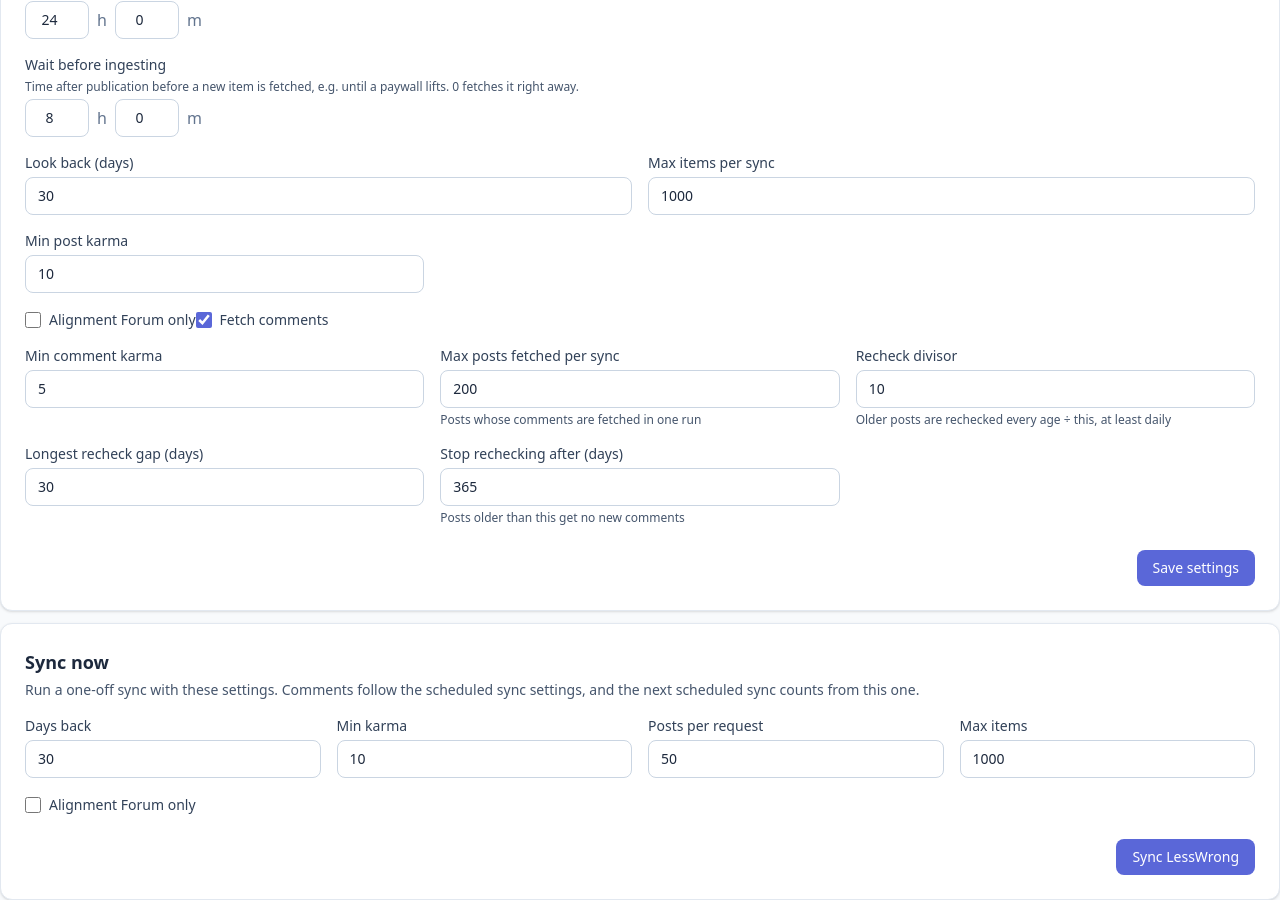
ForumsPanel › shows the server error detail when the manual sync fails
(page scrolled)
Click the button "Sync LessWrong". click: (1186,857)
box: [1116,839,1255,875]
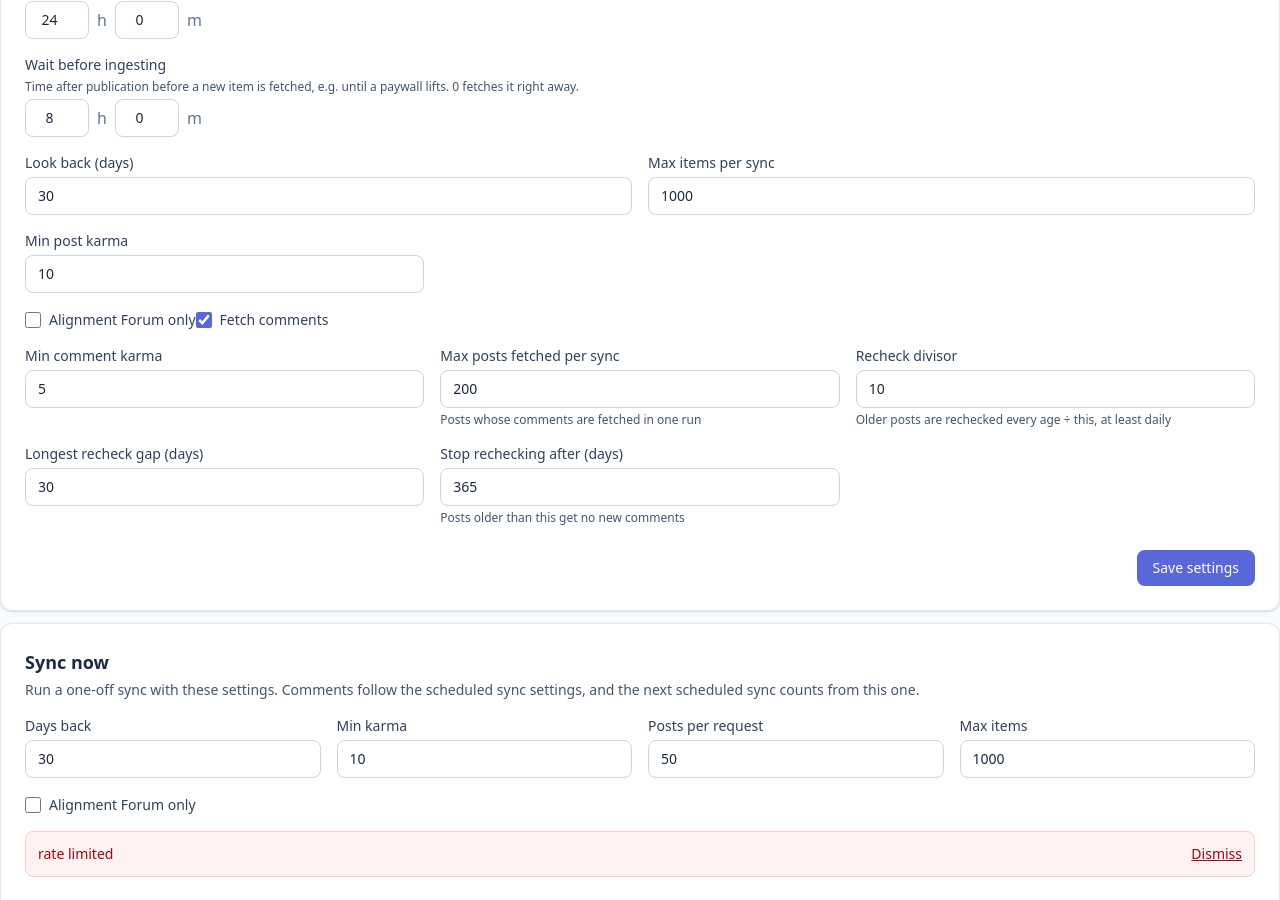
Check: the text "rate limited" is shown, box [38,844,113,864]
